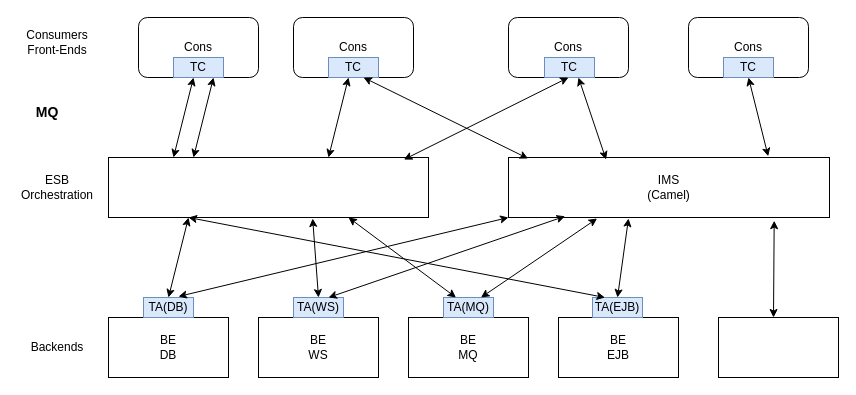
The diagram is 856 pixels wide and 395 high, and some of its shapes have lost their labels. The shapes that lost their labels are listed below. From the top down, each one's centre as x and y in pixels, then its label:
pixel 268 187: WMB
pixel 778 347: BE REST
